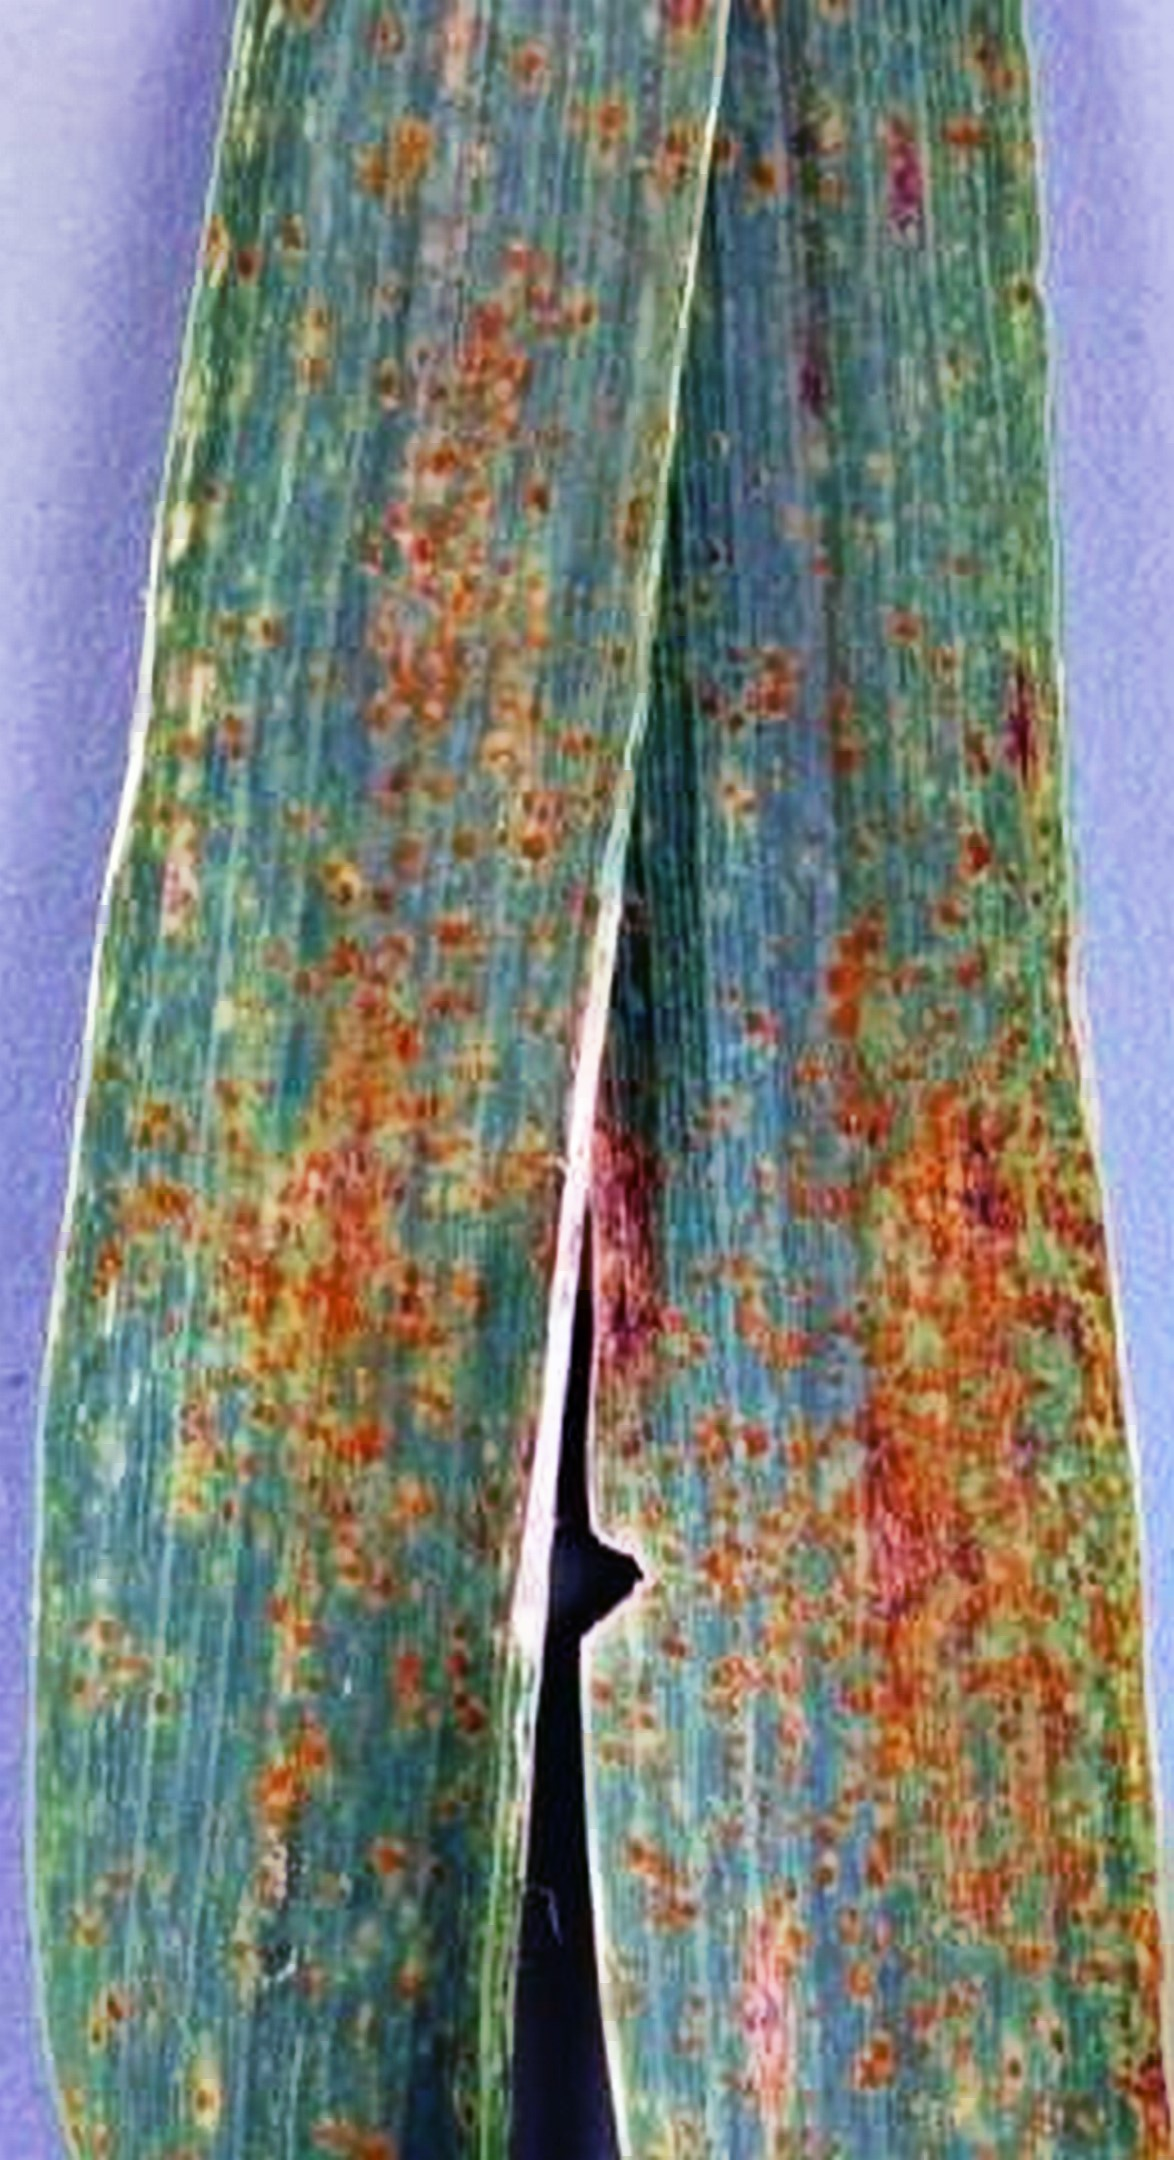Leaf Rust: (17, 841, 1174, 1910)
